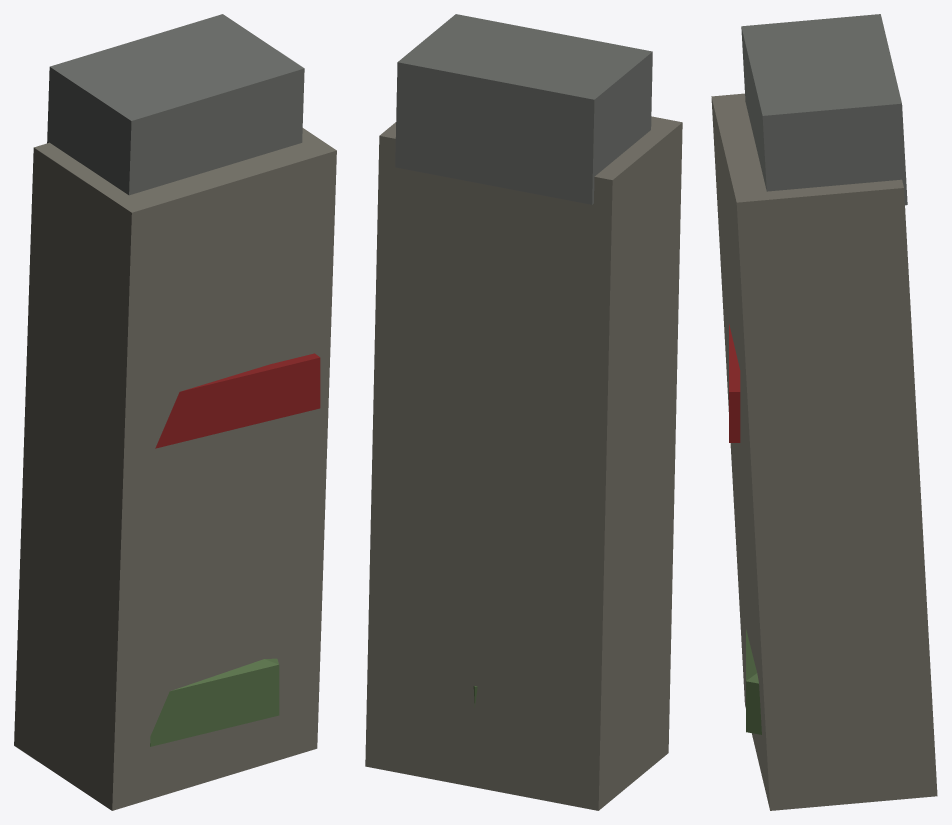
Rendered from a2f_boundary_stone.glb.
3 renders of one model, left to right at view 1: azimuth 30°, elevation 25°; view 2: azimuth 150°, elevation 25°; view 3: azimuth 270°, elevation 25°, orthographic.
Visible parts, largest first — view 1: a2f_boundary_stone; view 2: a2f_boundary_stone; view 3: a2f_boundary_stone.
Part boxes in pixels (x1=…): a2f_boundary_stone: x1=14, y1=14, x2=336, y2=810; a2f_boundary_stone: x1=365, y1=14, x2=682, y2=810; a2f_boundary_stone: x1=711, y1=14, x2=937, y2=810.
Bounding box in the file's own units: 0.4837 × 1.36 × 0.4027.
